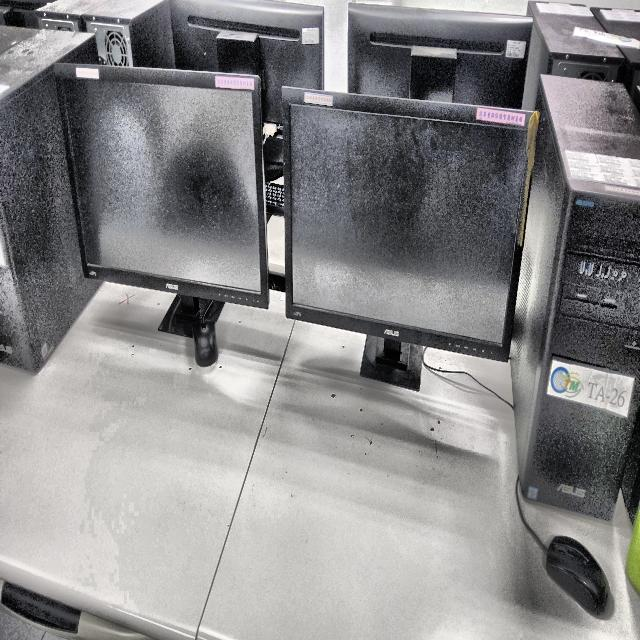Keyboard: (265, 182, 284, 216)
MOUSE: (546, 536, 610, 615), (192, 322, 218, 366)
Screen: (281, 87, 541, 361), (60, 68, 269, 308), (170, 0, 325, 128), (348, 4, 532, 109)
